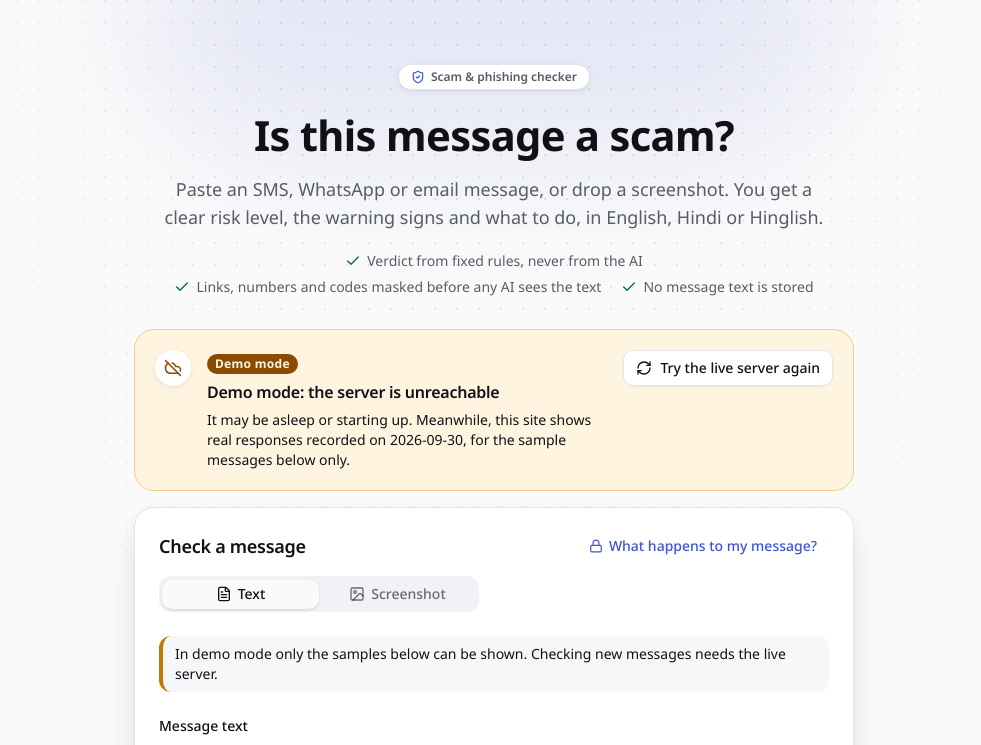
Test: demo mode: server unreachable › appears only when /health fails, with a working retry
Expected: the element with test id "demo-banner" shows "Demo mode: the server is unreachable", [207,381,500,403]
Click the button "Try the live server again" at (728, 368), box [624,350,833,386]
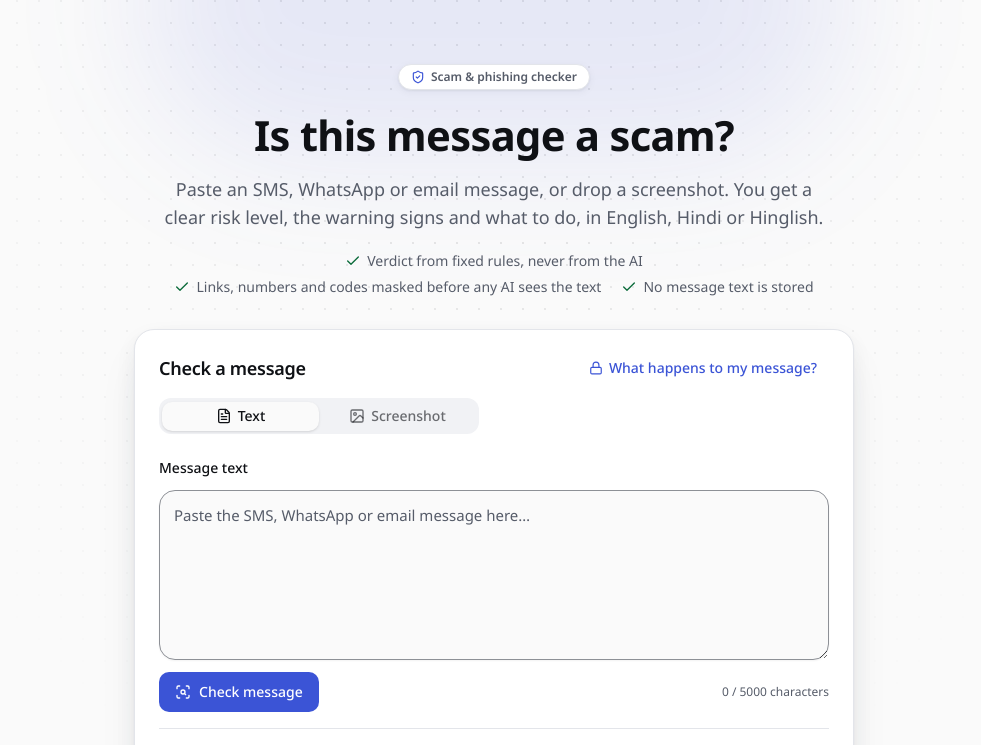
Expected: the text box labelled "Message text" is enabled, [159,490,829,660]
Expected: the element with test id "demo-banner" is gone
